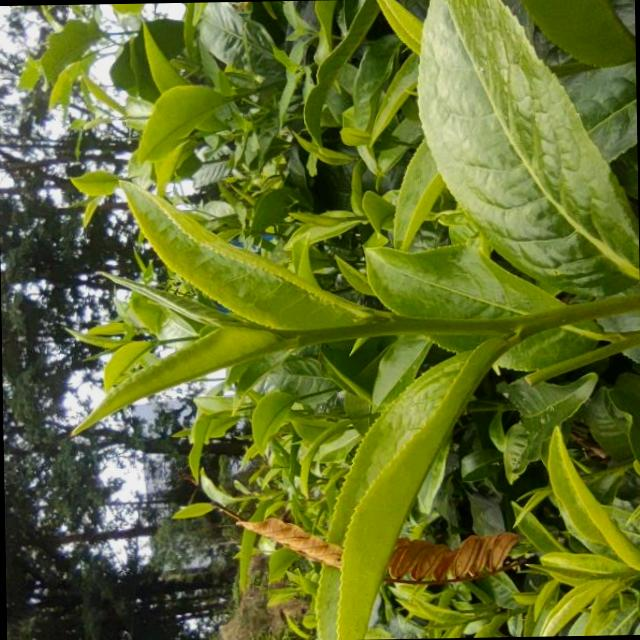Stem: (374, 315, 408, 336), (346, 216, 354, 221)
